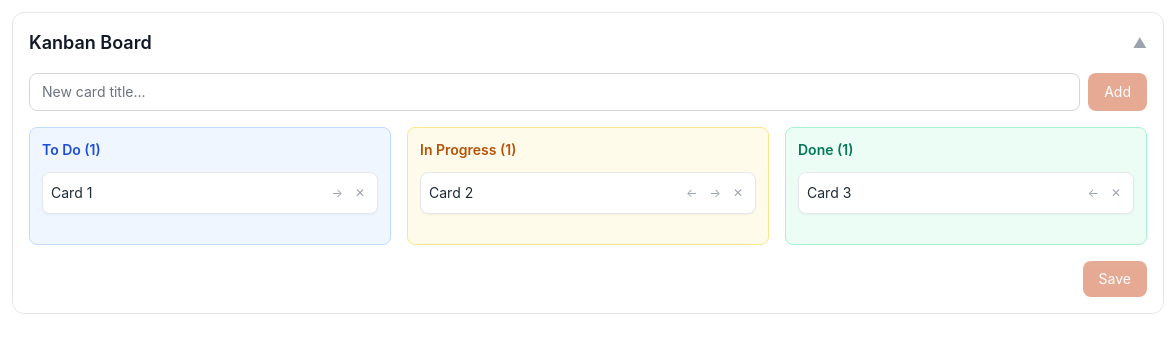
Test: KanbanBoard › moves card right
Click the button titled "Move right" in the row of "Card 1" at x=337, y=193, box [328, 181, 347, 205]
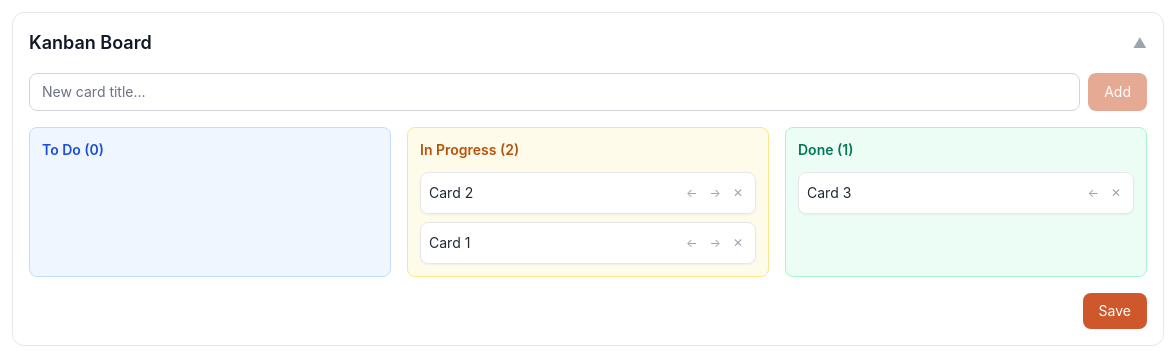
Check: the heading "In Progress (2)" is shown, box [420, 141, 519, 158]
Check: the heading "To Do (0)" is shown, box [42, 141, 104, 158]
